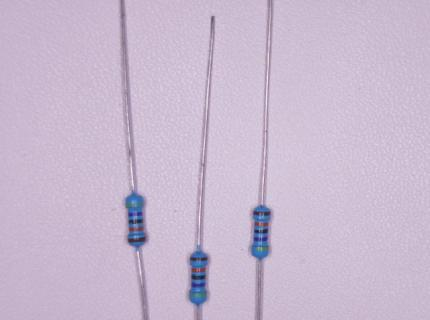Black band: (128, 219, 143, 224), (192, 275, 206, 280), (254, 229, 268, 233)
Brown band: (128, 236, 146, 243), (253, 211, 271, 216), (190, 257, 208, 261)
Orange band: (192, 267, 205, 273), (129, 227, 144, 231), (255, 222, 268, 226)
Violet band: (128, 212, 143, 216), (192, 283, 206, 287), (254, 237, 267, 241)
Yellow band: (251, 247, 269, 251), (190, 293, 207, 297), (126, 203, 144, 206)
